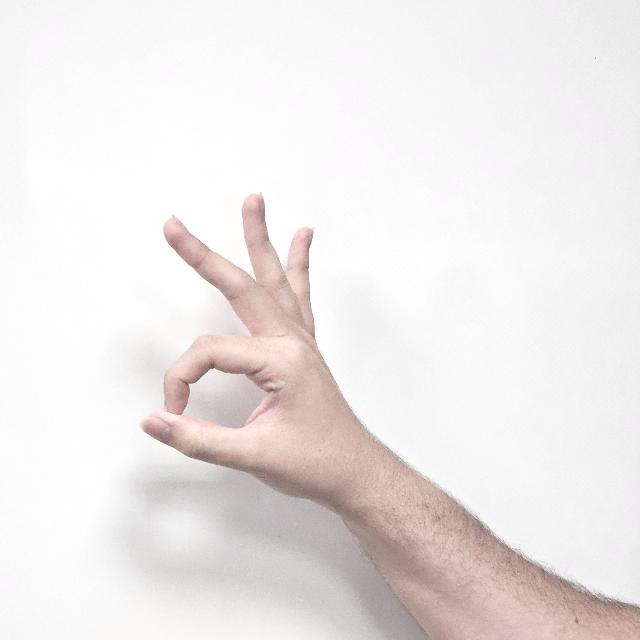Bolinha: (144, 151, 372, 554)
